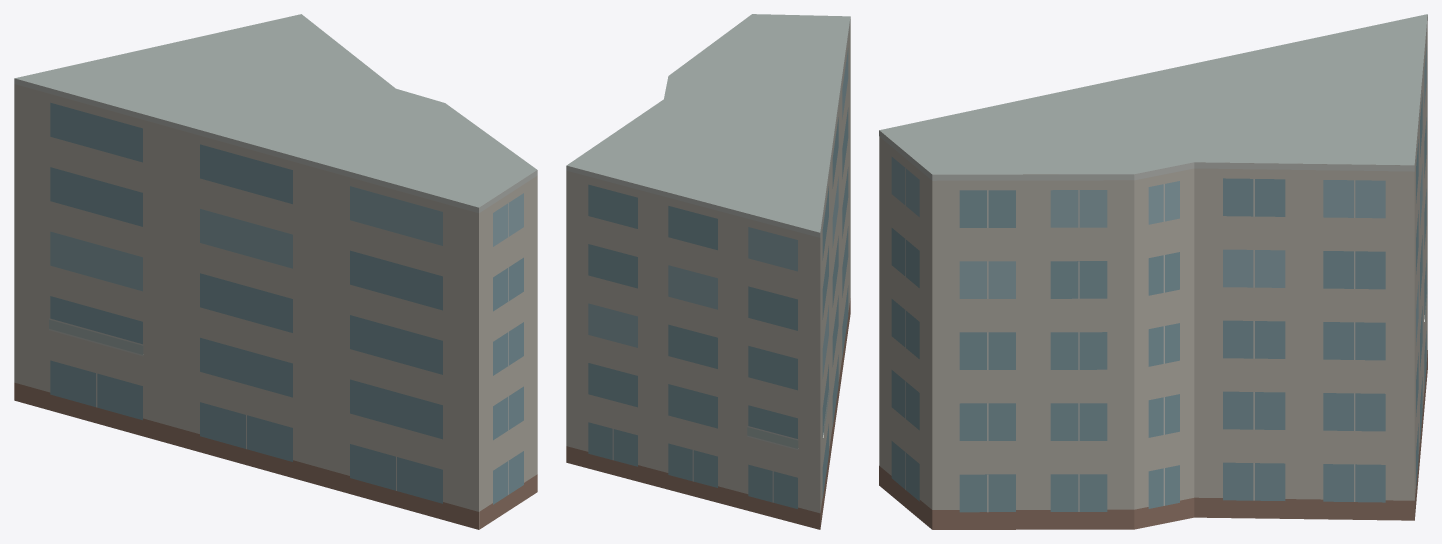
The model's file is survey-upis-32716635.glb.
3 views of the same model, side by side, from view 1: azimuth 30°, elevation 25°; view 2: azimuth 150°, elevation 25°; view 3: azimuth 270°, elevation 25° (orthographic). The views are drawn at different scales.
Visible parts, largest first — view 1: survey-upis-32716635.tmp; view 2: survey-upis-32716635.tmp; view 3: survey-upis-32716635.tmp.
Boxes of the visible parts, bbox=[...] form: survey-upis-32716635.tmp: bbox=[14, 14, 537, 529]; survey-upis-32716635.tmp: bbox=[566, 14, 850, 529]; survey-upis-32716635.tmp: bbox=[879, 14, 1427, 529].
Size of the model in its own units: 13.59 by 14 by 19.6.
